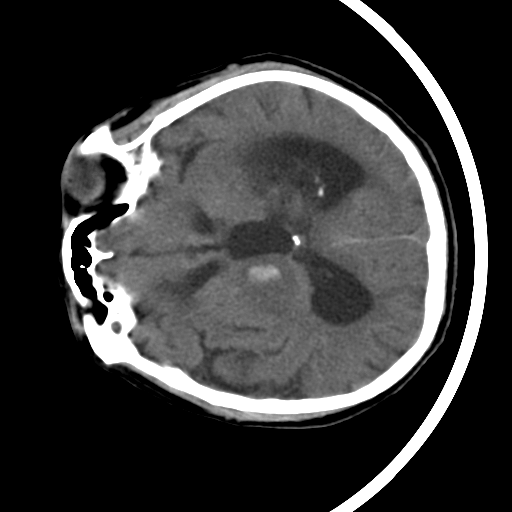a: (236, 255, 300, 321)
